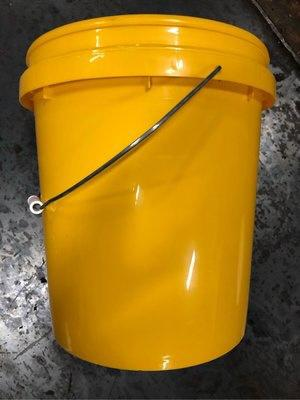metal: (19, 15, 274, 370)
plastic: (19, 15, 274, 370)
